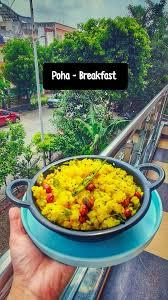poha: (29, 156, 153, 237)
